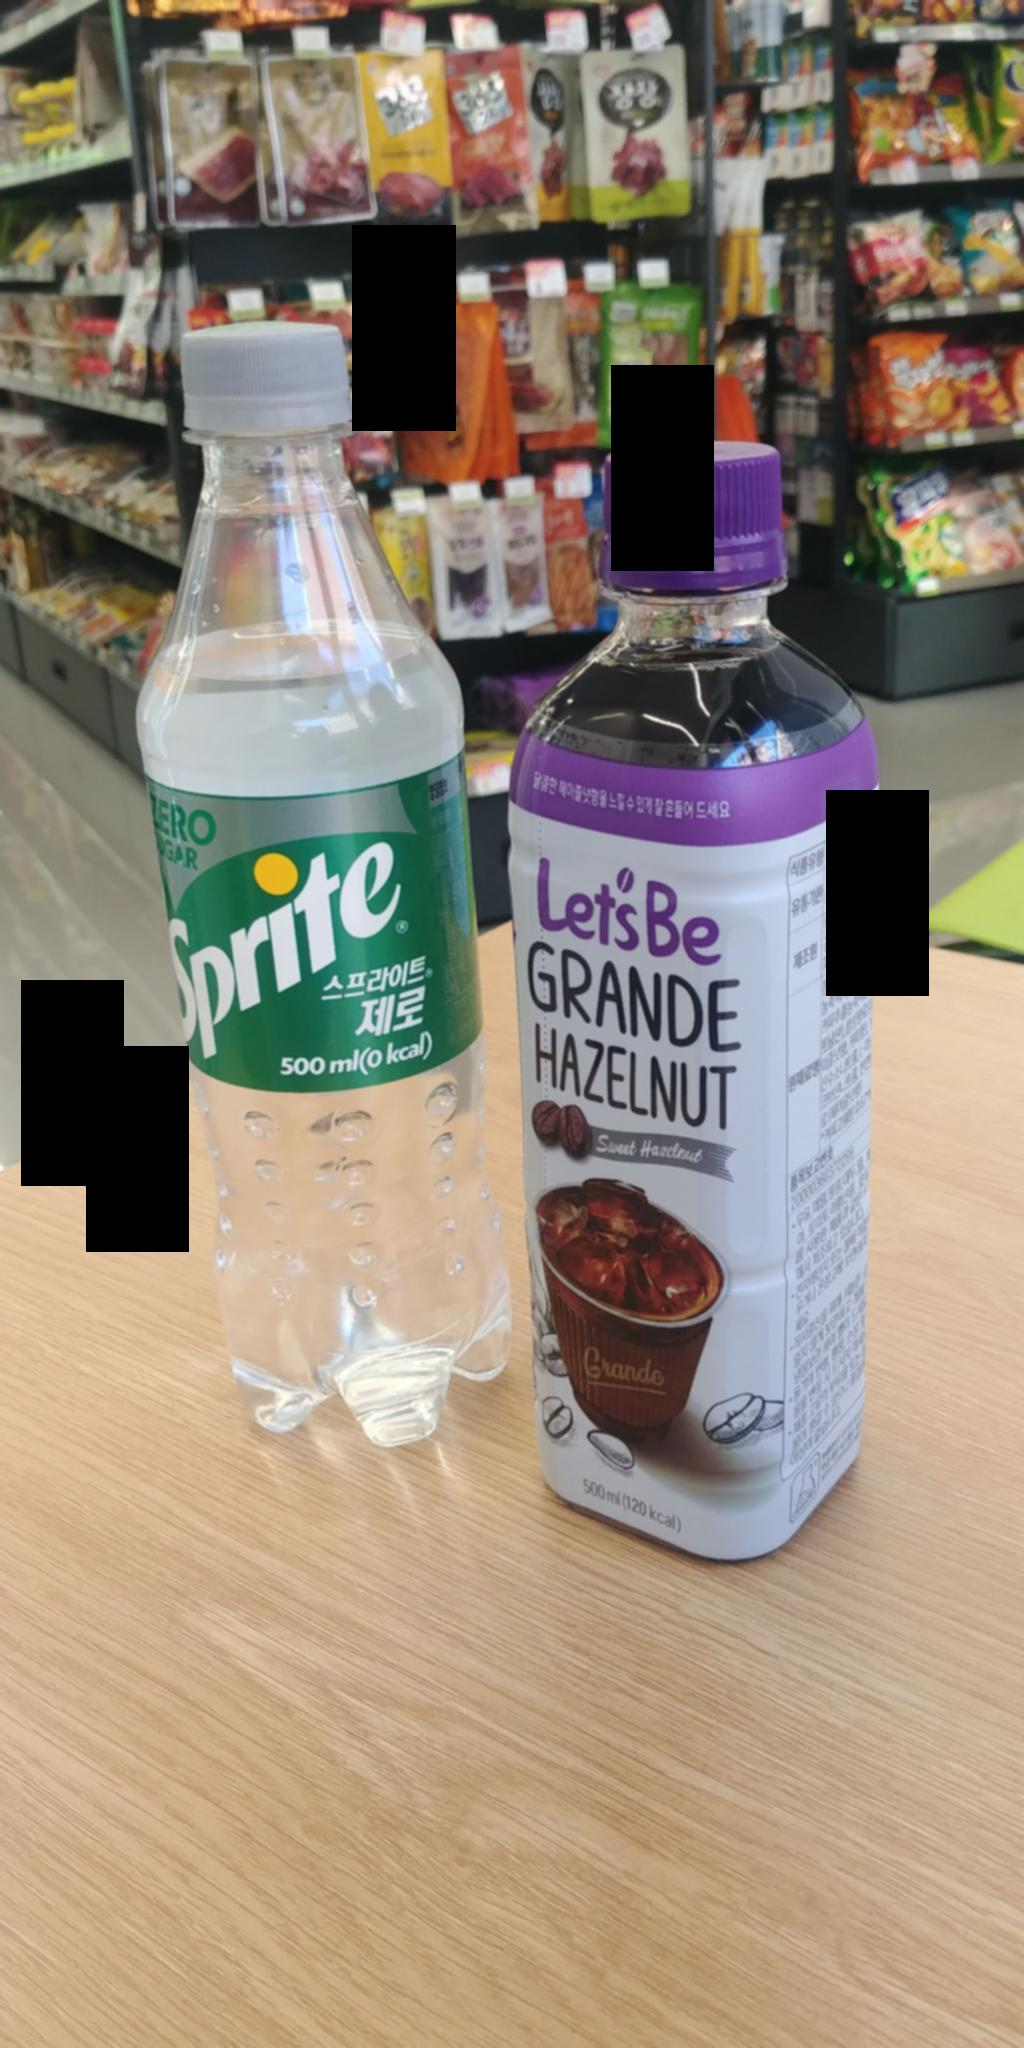heotgaecha: (524, 448, 896, 1561)
sprite_zero: (119, 320, 522, 1486)
